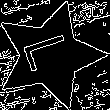L_E: (19, 33, 80, 78)
